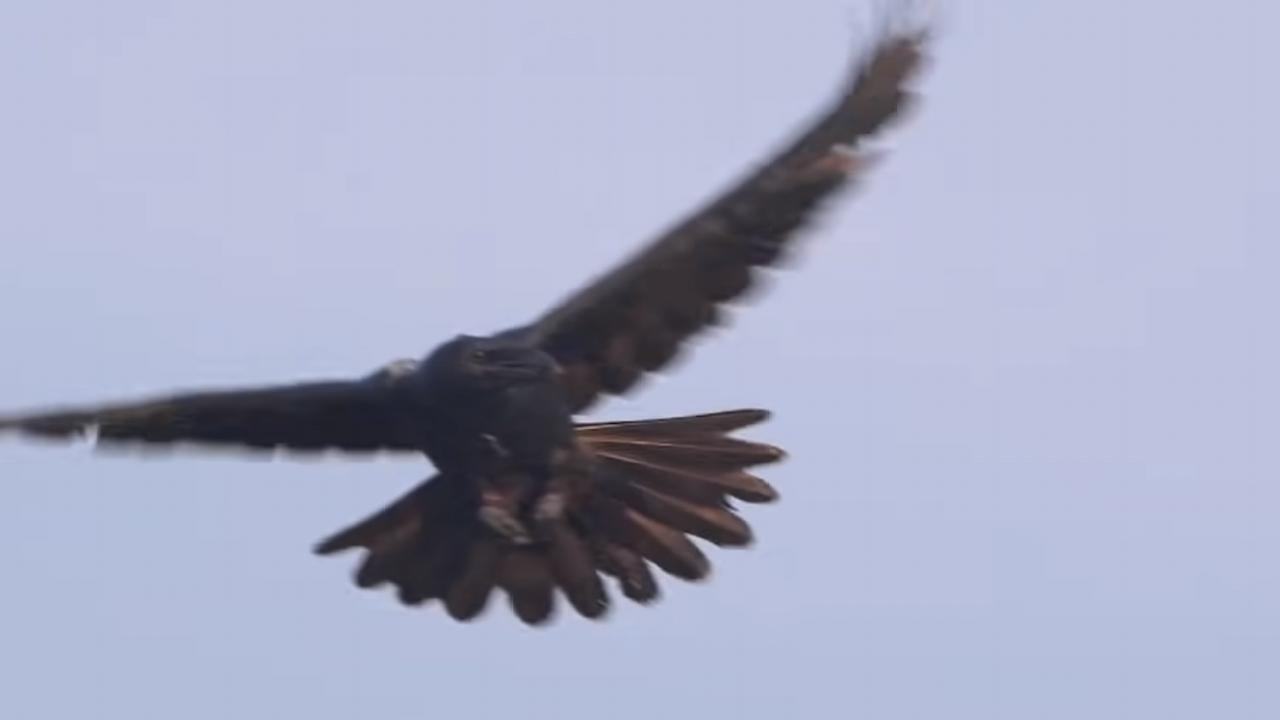Bird: (0, 8, 960, 635)
